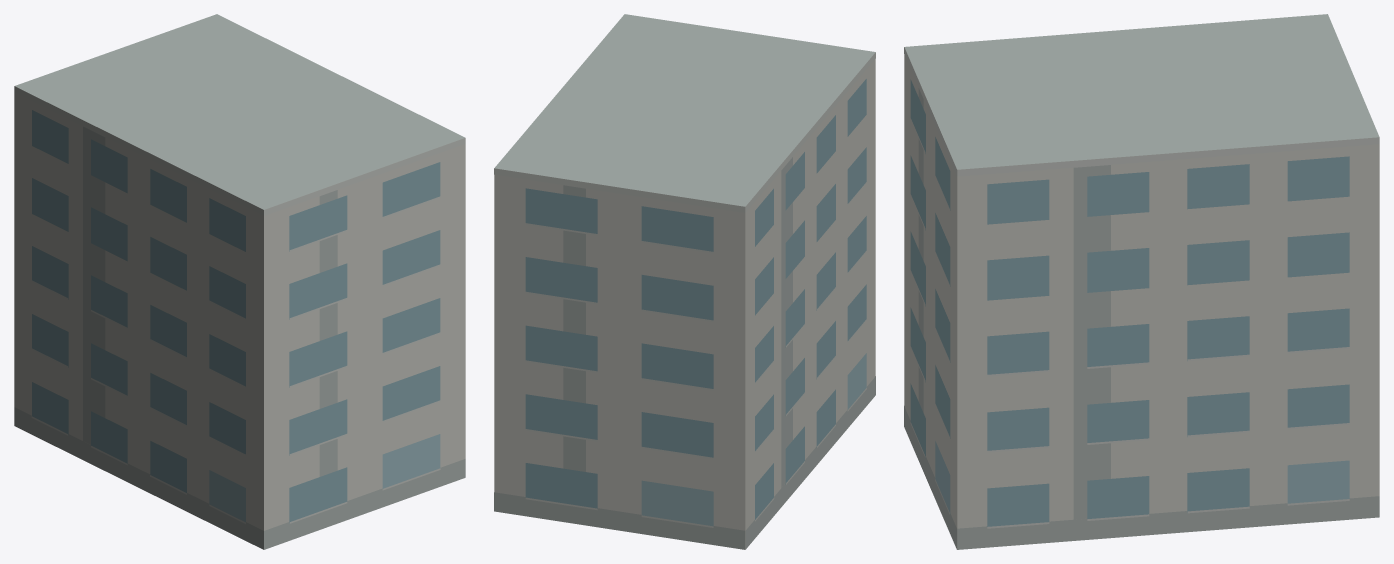
File: survey-upis-32882583.glb
3 views of the same model, side by side, from view 1: azimuth 30°, elevation 25°; view 2: azimuth 150°, elevation 25°; view 3: azimuth 270°, elevation 25° (orthographic). The views are drawn at different scales.
Visible parts, largest first — view 1: survey-upis-32882583.tmp; view 2: survey-upis-32882583.tmp; view 3: survey-upis-32882583.tmp.
Part boxes in pixels (left/top/right/bottom): survey-upis-32882583.tmp: left=14, top=14, right=465, bottom=549; survey-upis-32882583.tmp: left=494, top=14, right=875, bottom=549; survey-upis-32882583.tmp: left=904, top=14, right=1379, bottom=549.
Size of the model in its own units: 11.61 by 13.2 by 14.97.
